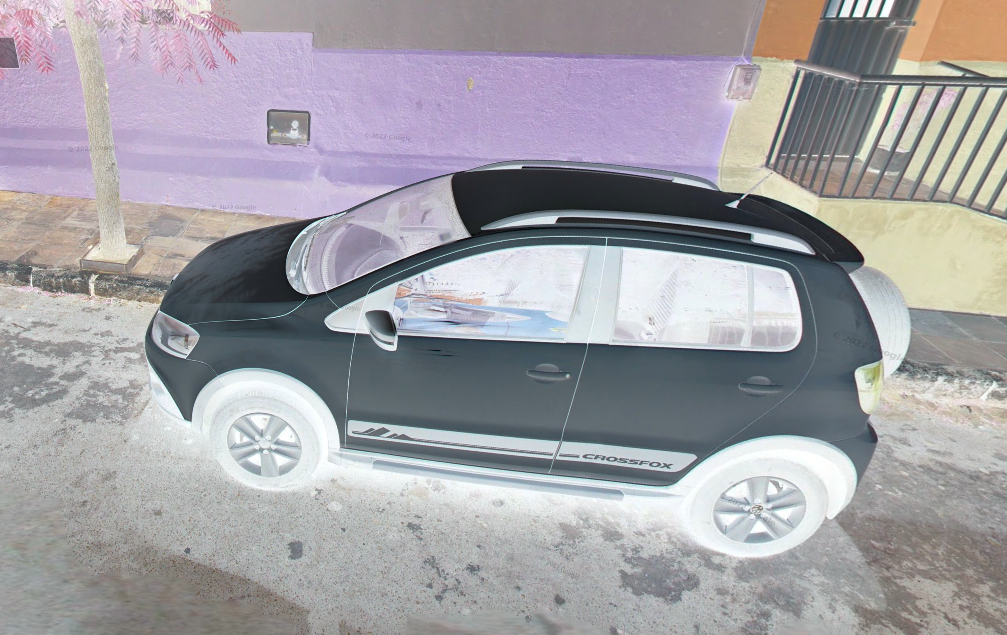car: (140, 152, 916, 571)
